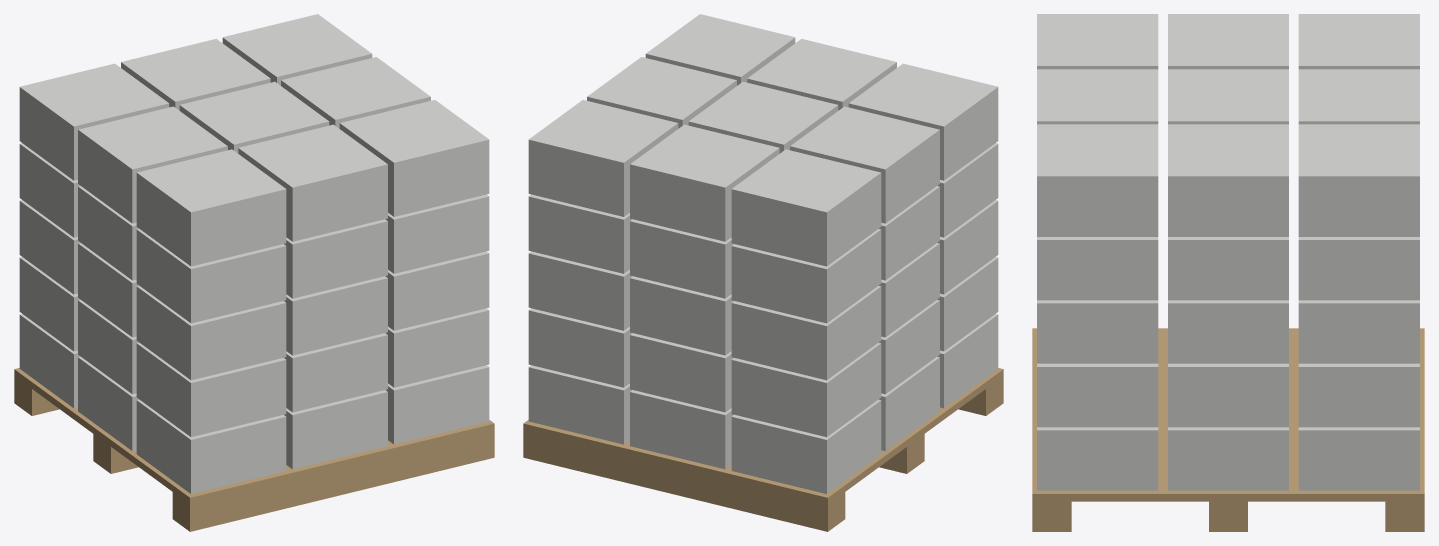
File: pallet_mp.glb
The picture shows the model from 3 angles, left to right: view 1: azimuth 30°, elevation 25°; view 2: azimuth 150°, elevation 25°; view 3: azimuth 270°, elevation 25°; orthographic projection. The views are drawn at different scales.
Parts seen in each view (by area): view 1: PalletMP; view 2: PalletMP; view 3: PalletMP.
Boxes of the visible parts, x1,y1,x2,y2 form: PalletMP: (14, 14, 494, 531); PalletMP: (523, 14, 1003, 531); PalletMP: (1032, 14, 1424, 531).
Bounding box in the file's own units: 1 × 0.9957 × 1.
